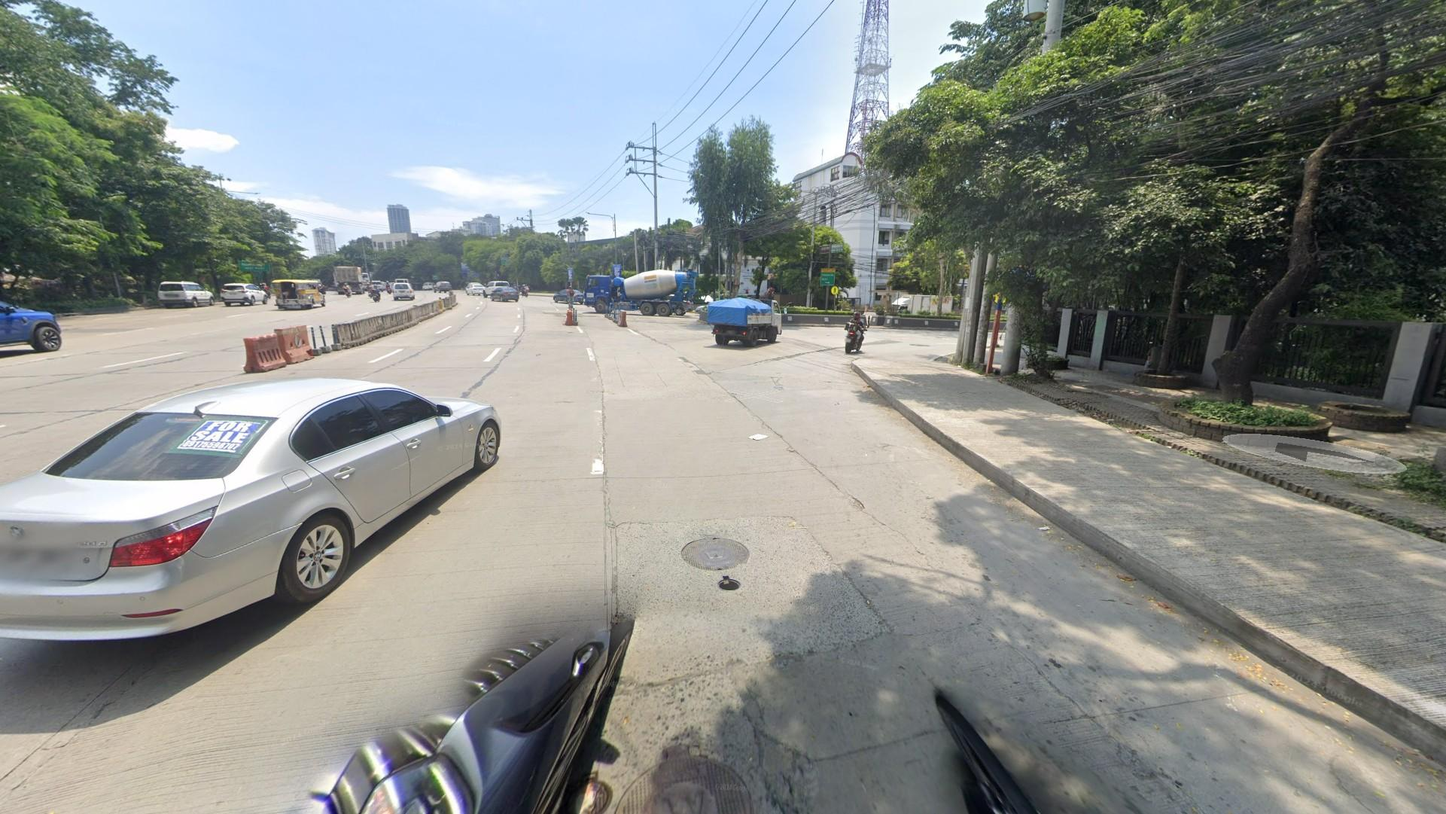pedestrian: (566, 286, 575, 308)
